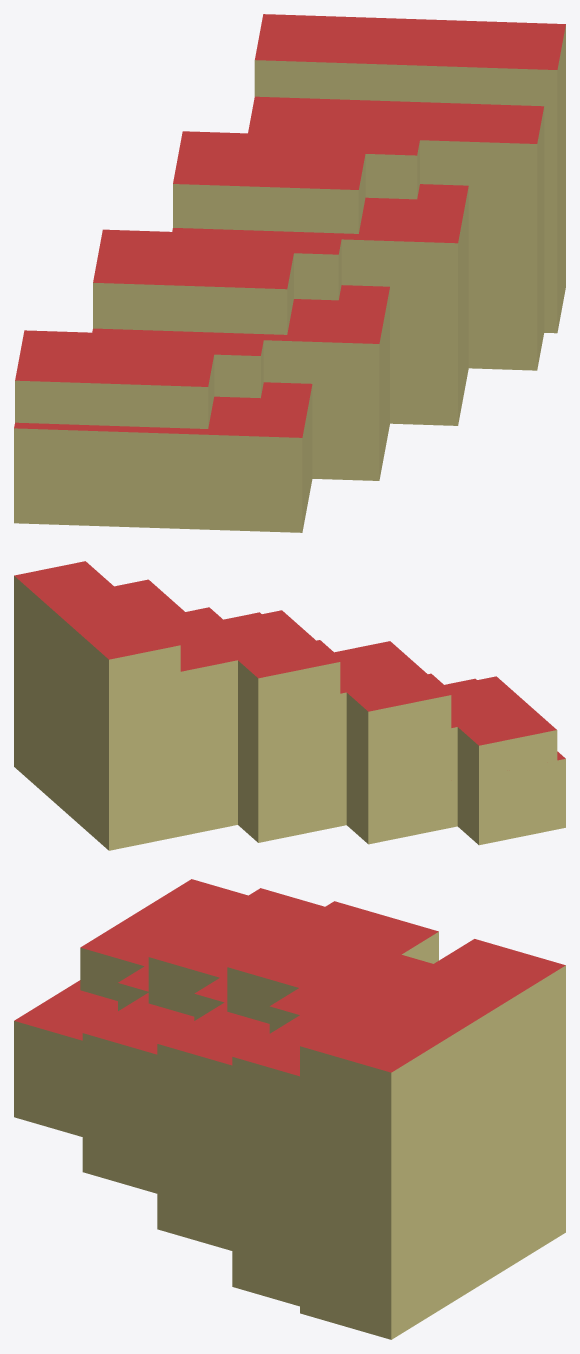
3 renders of one model, top to bottom at view 1: azimuth 30°, elevation 25°; view 2: azimuth 150°, elevation 25°; view 3: azimuth 270°, elevation 25°, orthographic. The views are drawn at different scales.
Size of the model in its own units: 41.54 by 29.81 by 15.92.
